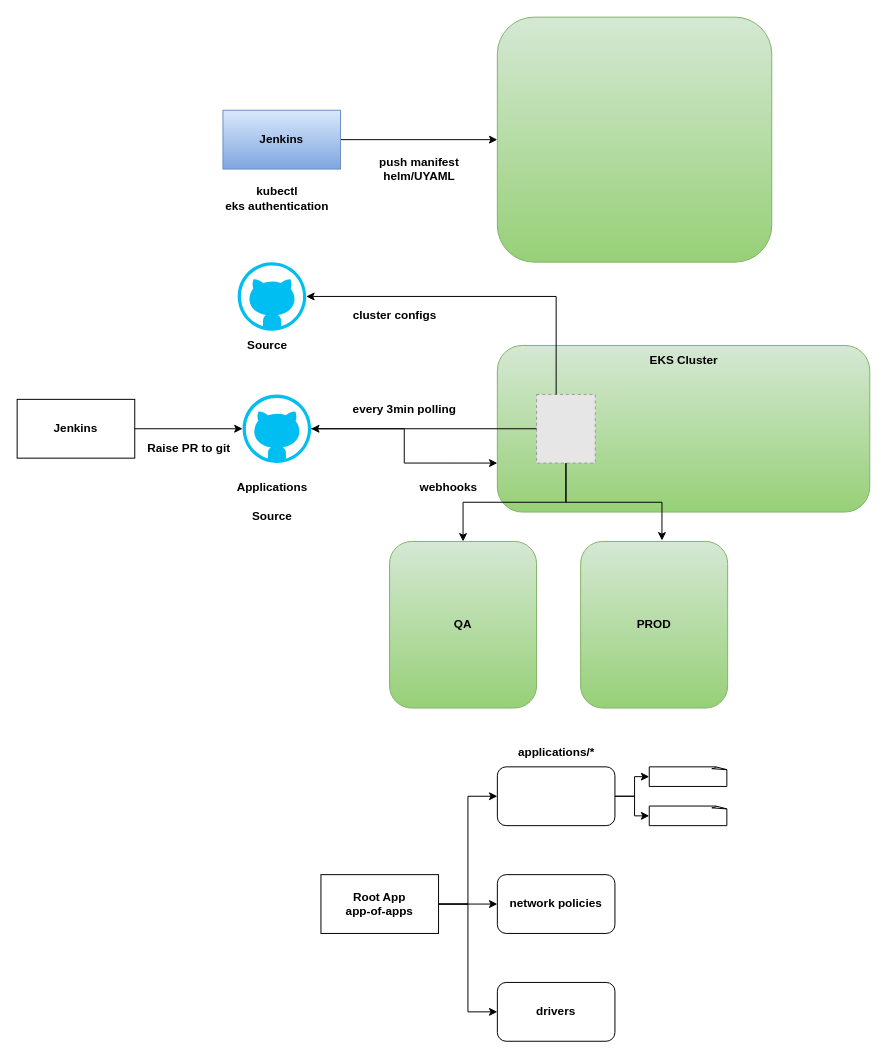
The diagram is 887 pixels wide and 1058 high, and some of its shapes have lost their labels. Grey dashed boxes stand in for pictures. The shapes that lost their labels are listed below. From the top down, each one's centre as x and y in pixels, then its label:
the point at 634,139: EKS
the point at 555,796: namespaces
